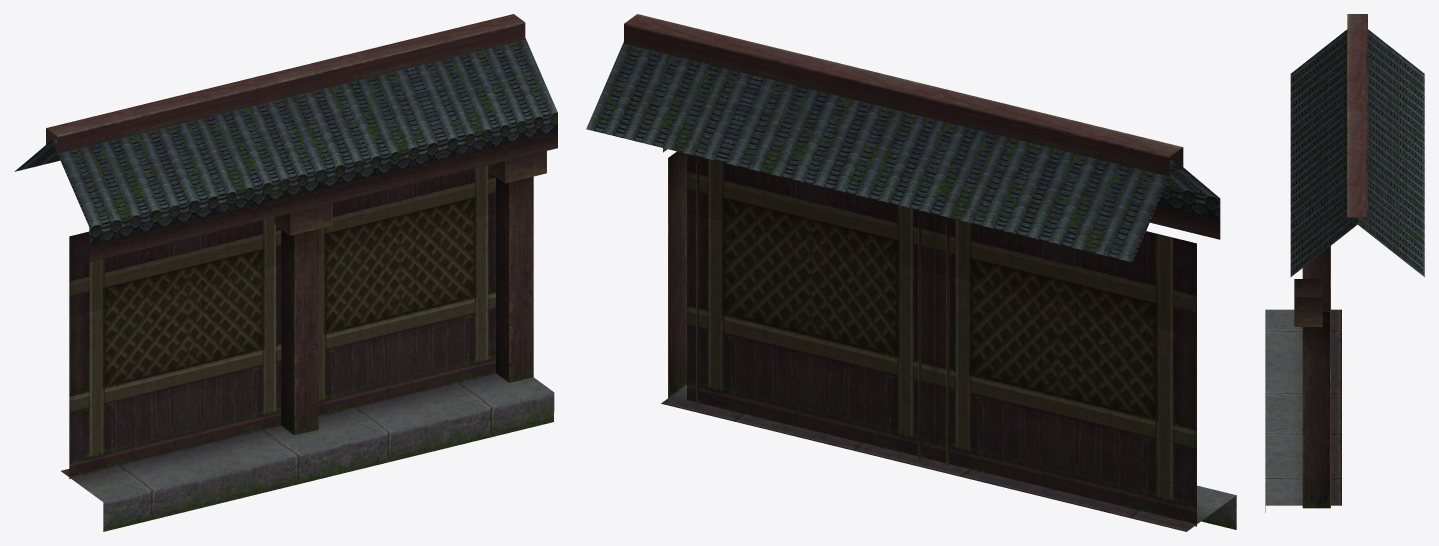
Rendered from yw_cangshan_qiang01.FBX.
The picture shows the model from 3 angles, left to right: view 1: azimuth 30°, elevation 25°; view 2: azimuth 150°, elevation 25°; view 3: azimuth 270°, elevation 25°; orthographic projection. The views are drawn at different scales.
Parts seen in each view (by area): view 1: yw_cangshan_qiang01; view 2: yw_cangshan_qiang01; view 3: yw_cangshan_qiang01.
Boxes of the visible parts, <box> form: yw_cangshan_qiang01: <box>14,14,557,531</box>; yw_cangshan_qiang01: <box>586,14,1236,531</box>; yw_cangshan_qiang01: <box>1265,14,1424,512</box>.
Size of the model in its own units: 561 by 413 by 185.
